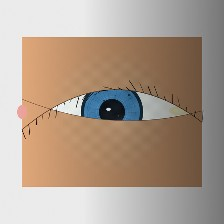pinguecula_lesion: (159, 95, 199, 126)
